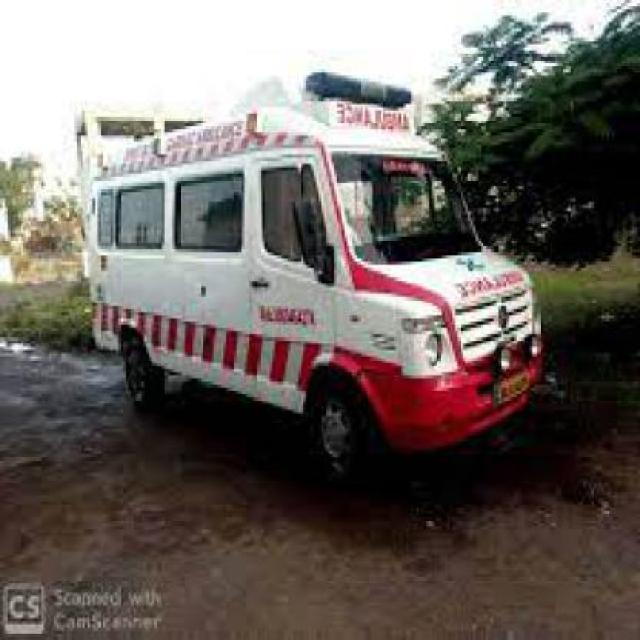Ambulance: (76, 69, 556, 489), (0, 329, 638, 638)
